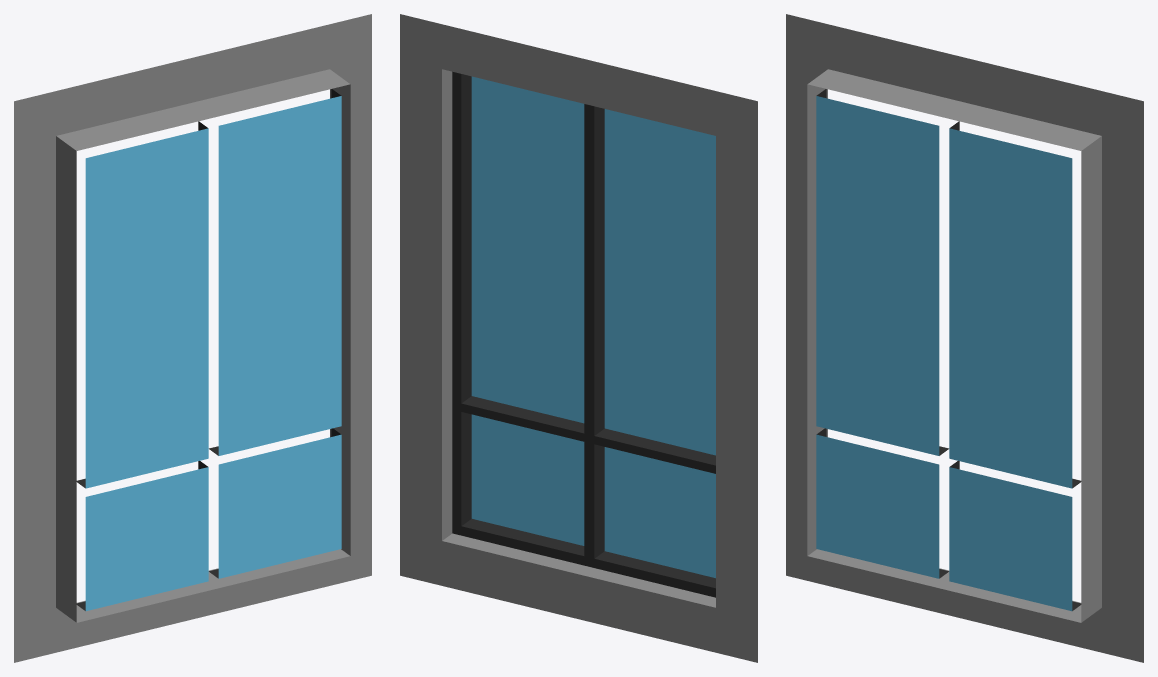
File: testwindow.FBX
3 renders of one model, left to right at view 1: azimuth 30°, elevation 25°; view 2: azimuth 150°, elevation 25°; view 3: azimuth 330°, elevation 25°, orthographic.
Visible parts, largest first — view 1: FlatWallWindowBig; view 2: FlatWallWindowBig; view 3: FlatWallWindowBig.
Boxes of the visible parts, box(x1,y1,x2,y2) form: FlatWallWindowBig: box(14, 14, 371, 662); FlatWallWindowBig: box(400, 14, 757, 662); FlatWallWindowBig: box(786, 14, 1143, 662).
Bounding box in the file's own units: 78.74 × 118 × 7.87.
